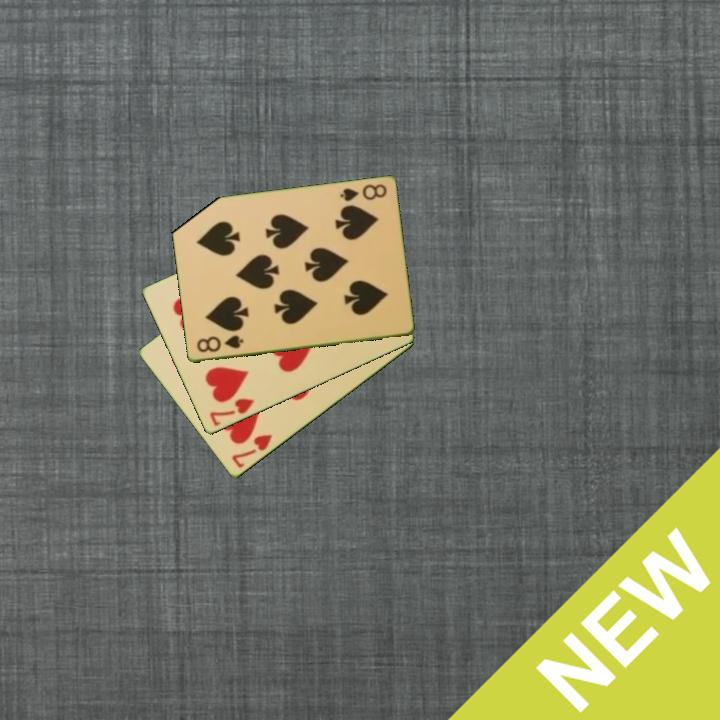7h: (228, 431, 275, 472), (206, 395, 257, 429)
8s: (193, 332, 246, 356), (336, 181, 389, 205)
